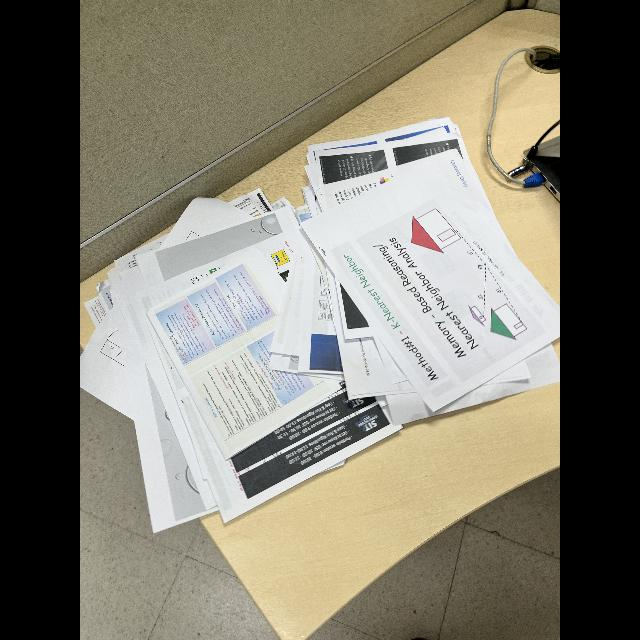reuseable_paper: (80, 123, 560, 535)
